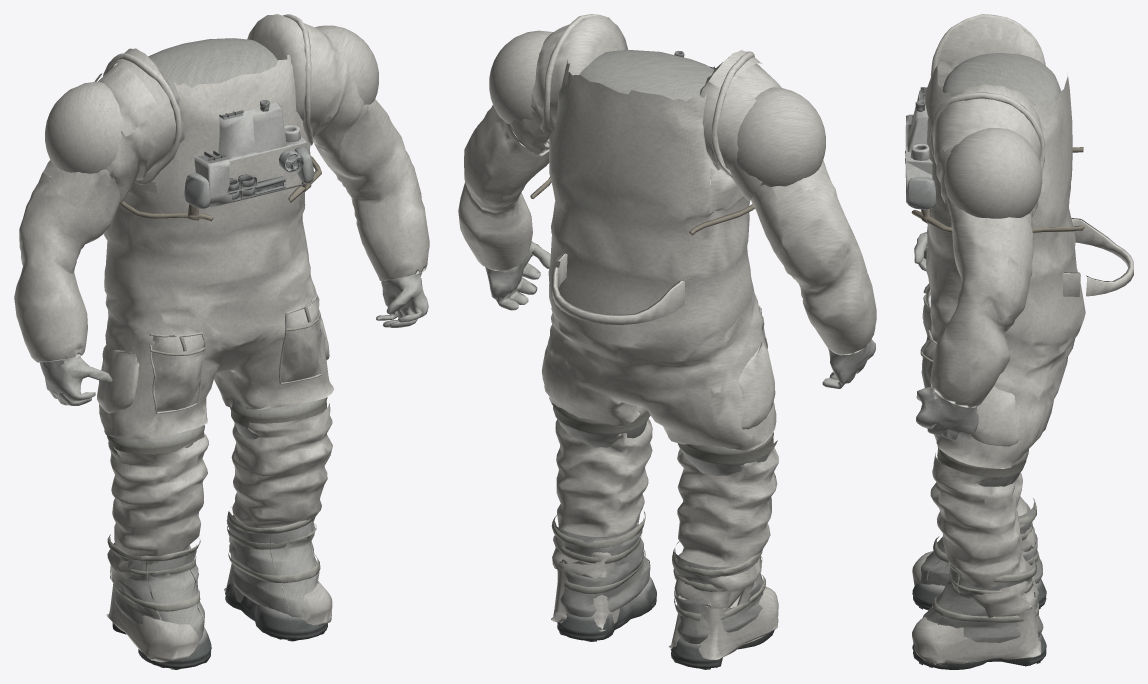
File: eva-suit.glb
The picture shows the model from 3 angles, left to right: view 1: azimuth 30°, elevation 25°; view 2: azimuth 150°, elevation 25°; view 3: azimuth 270°, elevation 25°; orthographic projection. The views are drawn at different scales.
Visible parts, largest first — view 1: EVA suit with lunar overboots; view 2: EVA suit with lunar overboots; view 3: EVA suit with lunar overboots.
Part boxes in pixels (x1=…): EVA suit with lunar overboots: x1=14, y1=14, x2=429, y2=669; EVA suit with lunar overboots: x1=458, y1=14, x2=876, y2=669; EVA suit with lunar overboots: x1=905, y1=14, x2=1133, y2=669.
Size of the model in its own units: 1.13 by 1.6 by 0.5732.
Materials: 1 (1 with a texture image).
